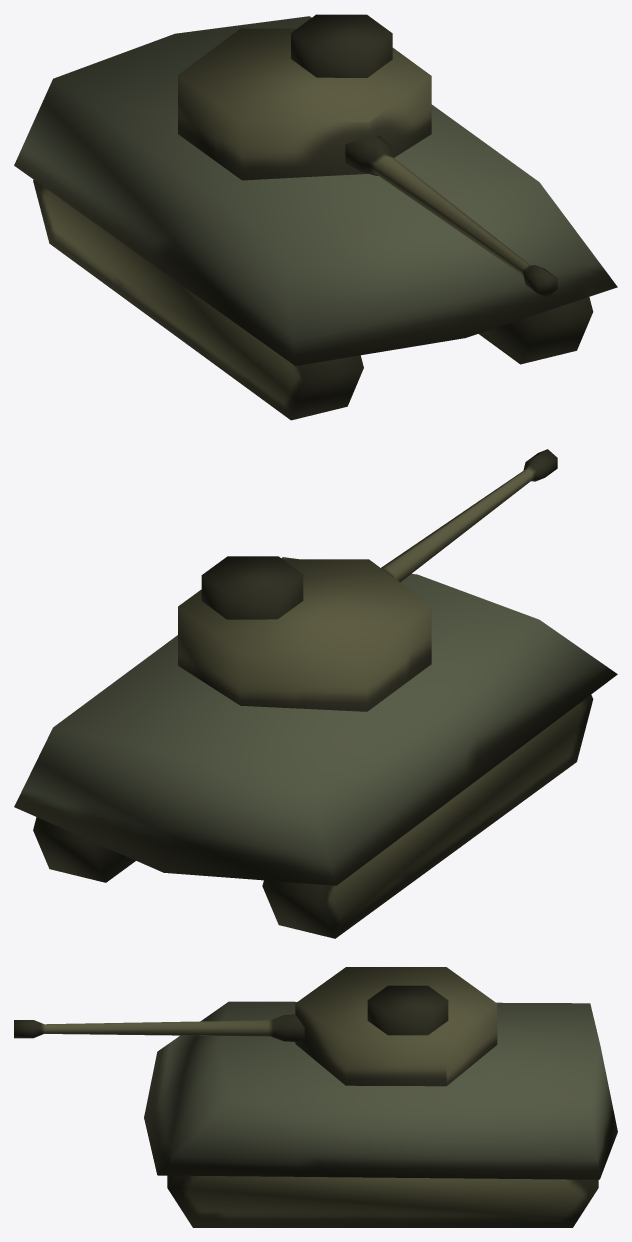
Rendered from Tiger.fbx.
3 renders of one model, top to bottom at view 1: azimuth 30°, elevation 25°; view 2: azimuth 150°, elevation 25°; view 3: azimuth 270°, elevation 25°, orthographic. The views are drawn at different scales.
Parts seen in each view (by area): view 1: Tank; view 2: Tank; view 3: Tank.
Boxes of the visible parts, x1,y1,x2,y2 form: Tank: [14, 14, 617, 420]; Tank: [14, 449, 617, 938]; Tank: [14, 967, 617, 1227].
Size of the model in its own units: 141 by 101 by 291.
1 material, 1 textured.
